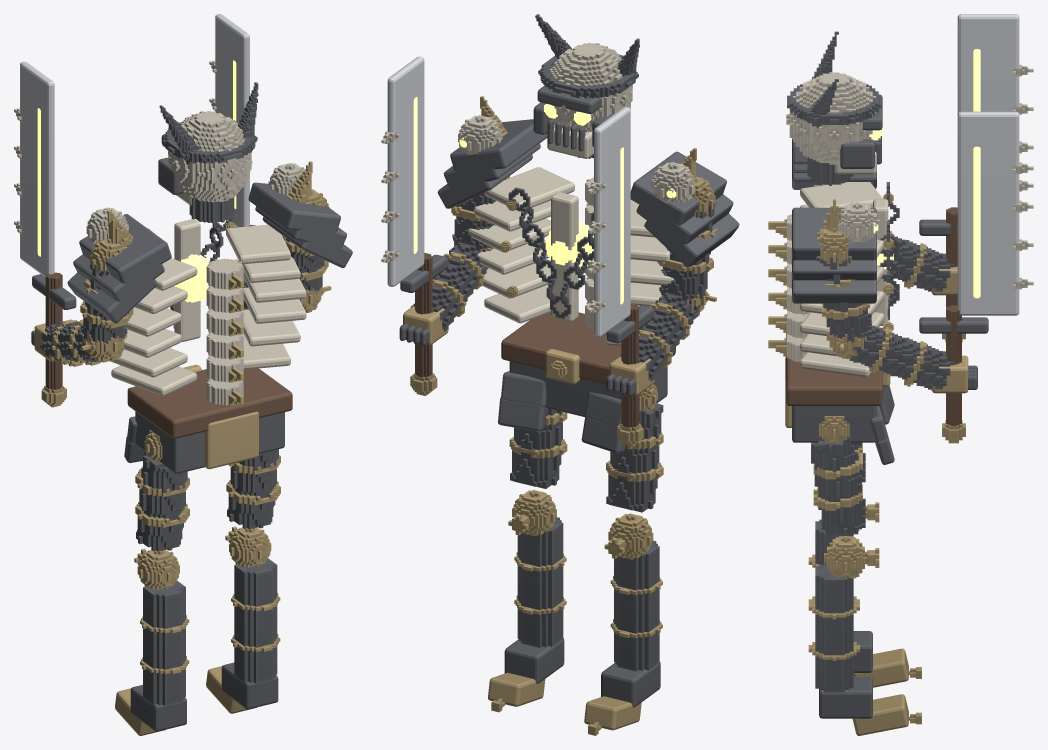
File: enemy_01_ossuary_executioner.glb
3 renders of one model, left to right at view 1: azimuth 30°, elevation 25°; view 2: azimuth 150°, elevation 25°; view 3: azimuth 270°, elevation 25°, orthographic. The views are drawn at different scales.
Parts seen in each view (by area): view 1: Torso, ForearmL, Pelvis, ShinR, ShinL, Head, ThighL, ForearmR, ThighR, UpperArmL, UpperArmR, SecondaryProp; view 2: Torso, ForearmL, ForearmR, Pelvis, ShinR, ShinL, Head, ThighL, ThighR, SecondaryProp, UpperArmL, UpperArmR; view 3: ForearmR, Torso, ForearmL, ShinR, Head, Pelvis, ThighR, ShinL, UpperArmR, SecondaryProp.
Boxes of the visible parts, <box> form: Torso: <box>67,161,352,405</box>; ForearmL: <box>14,61,127,407</box>; Pelvis: <box>124,364,292,473</box>; ShinR: <box>206,526,280,713</box>; ShinL: <box>115,548,189,735</box>; Head: <box>158,82,258,223</box>; ThighL: <box>135,430,189,551</box>; ForearmR: <box>209,14,331,312</box>; ThighR: <box>226,449,280,529</box>; UpperArmL: <box>80,239,133,343</box>; UpperArmR: <box>282,189,329,292</box>; SecondaryProp: <box>148,215,232,328</box>; Torso: <box>437,96,739,345</box>; ForearmL: <box>588,107,716,446</box>; ForearmR: <box>381,56,493,395</box>; Pelvis: <box>498,312,675,453</box>; ShinR: <box>488,489,566,712</box>; ShinL: <box>584,513,662,735</box>; Head: <box>533,14,639,158</box>; ThighL: <box>606,384,663,512</box>; ThighR: <box>509,408,567,488</box>; SecondaryProp: <box>508,187,593,318</box>; UpperArmL: <box>657,176,717,299</box>; UpperArmR: <box>451,176,509,248</box>; ForearmR: <box>826,111,1033,443</box>; Torso: <box>768,138,893,376</box>; ForearmL: <box>890,14,1033,342</box>; ShinR: <box>808,536,921,735</box>; Head: <box>786,31,883,185</box>; Pelvis: <box>785,333,894,464</box>; ThighR: <box>811,416,865,535</box>; ShinL: <box>808,502,921,687</box>; UpperArmR: <box>816,227,871,342</box>; SecondaryProp: <box>877,182,899,320</box>.
Bounding box in the file's own units: 0.7632 × 1.86 × 0.6882.
